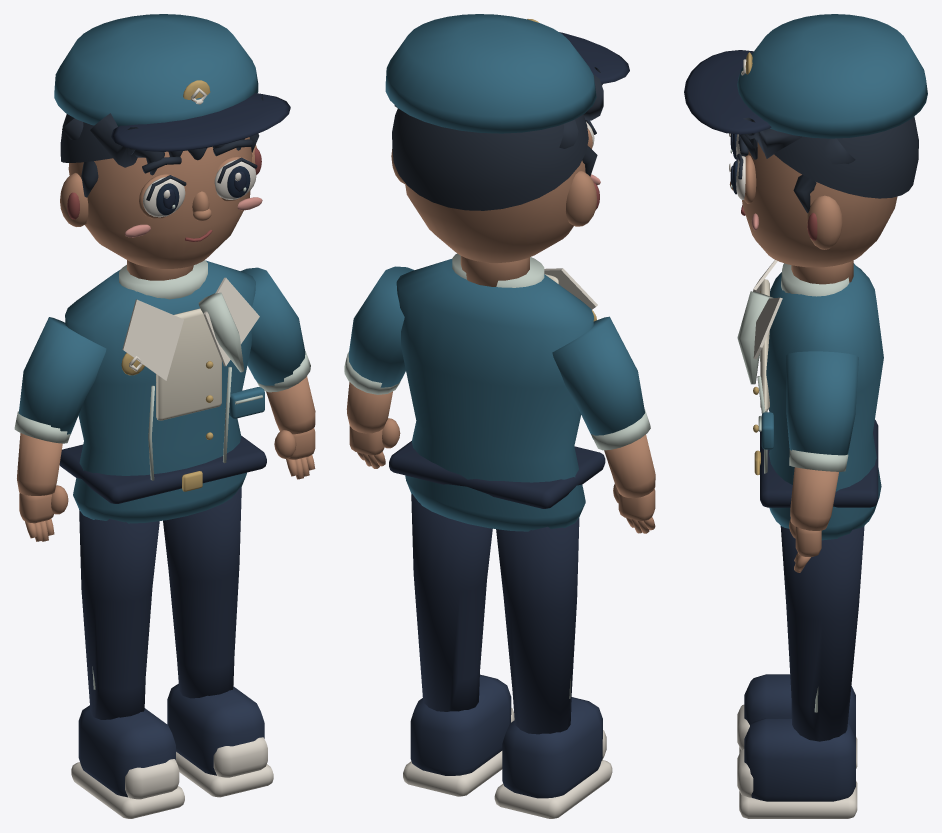
Rendered from blocky_character_e.glb.
The picture shows the model from 3 angles, left to right: view 1: azimuth 30°, elevation 25°; view 2: azimuth 150°, elevation 25°; view 3: azimuth 270°, elevation 25°; orthographic projection. The views are drawn at different scales.
Parts seen in each view (by area): view 1: figure.004; view 2: figure.004; view 3: figure.004.
Boxes of the visible parts, box(x1,y1,x2,y2) form: figure.004: box(14, 14, 315, 818); figure.004: box(344, 14, 655, 818); figure.004: box(684, 14, 927, 818).
Size of the model in its own units: 1.04 by 2.5 by 0.7393.
